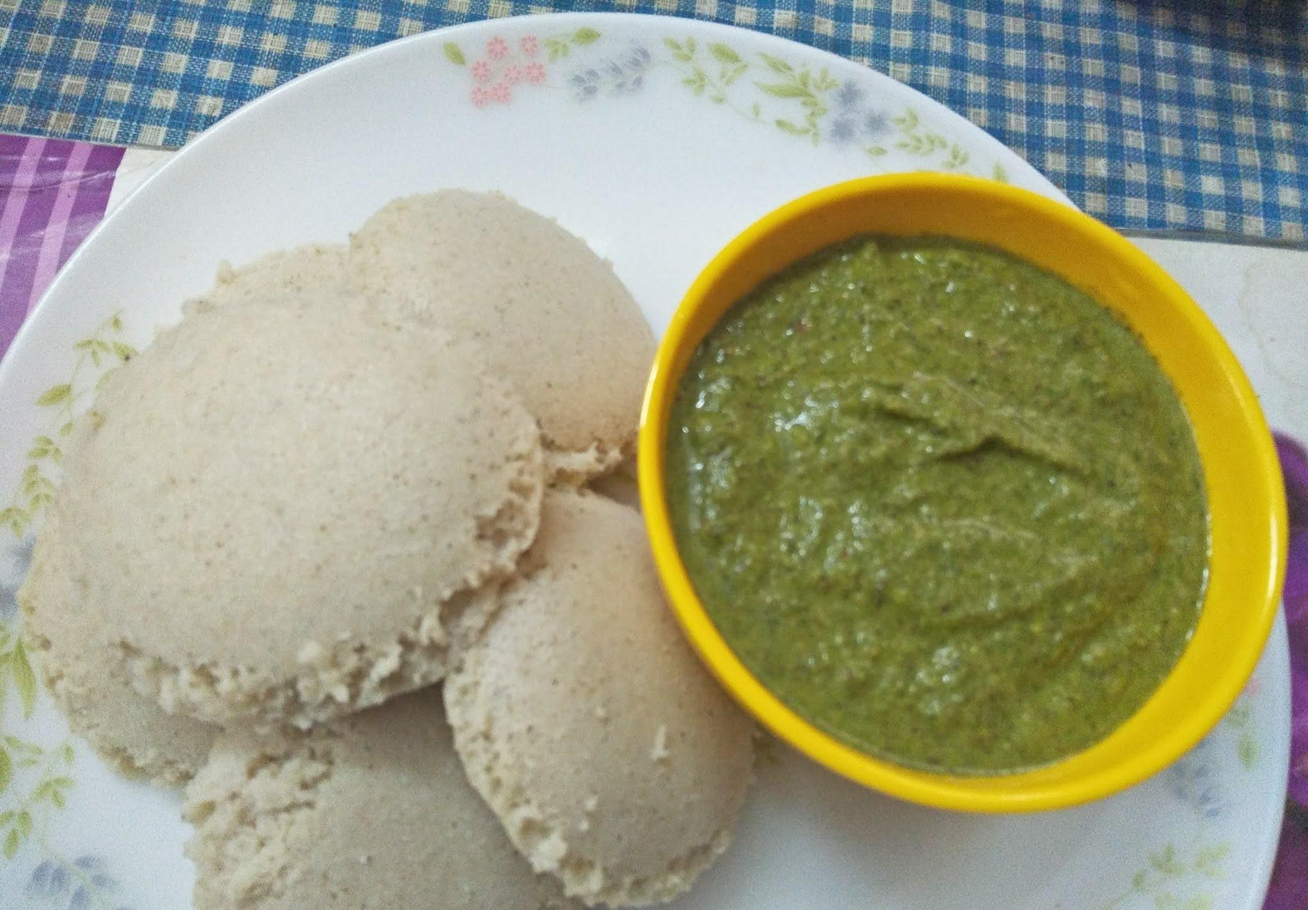Idli: (61, 255, 542, 725), (442, 482, 765, 905), (177, 682, 607, 910), (338, 188, 661, 475), (22, 432, 275, 790)
